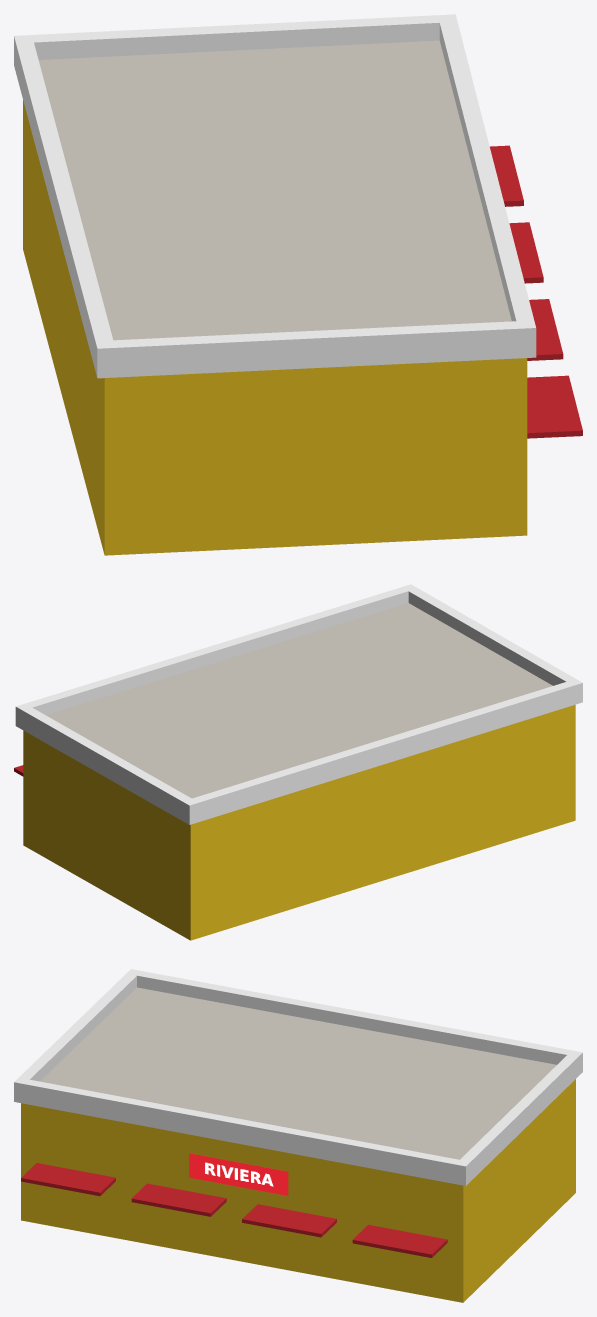
File: riviera_ora.glb
3 renders of one model, top to bottom at view 1: azimuth 30°, elevation 25°; view 2: azimuth 150°, elevation 25°; view 3: azimuth 270°, elevation 25°, orthographic. The views are drawn at different scales.
Parts seen in each view (by area): view 1: riviera_ora_lod0; view 2: riviera_ora_lod0; view 3: riviera_ora_lod0.
Part boxes in pixels (x1=…): riviera_ora_lod0: x1=14, y1=14, x2=582, y2=555; riviera_ora_lod0: x1=14, y1=584, x2=582, y2=940; riviera_ora_lod0: x1=14, y1=969, x2=582, y2=1302.
Size of what is drawn, in the model's own units: 22.56 by 7.1 by 26.26.
Materials: 6 (2 with a texture image).
